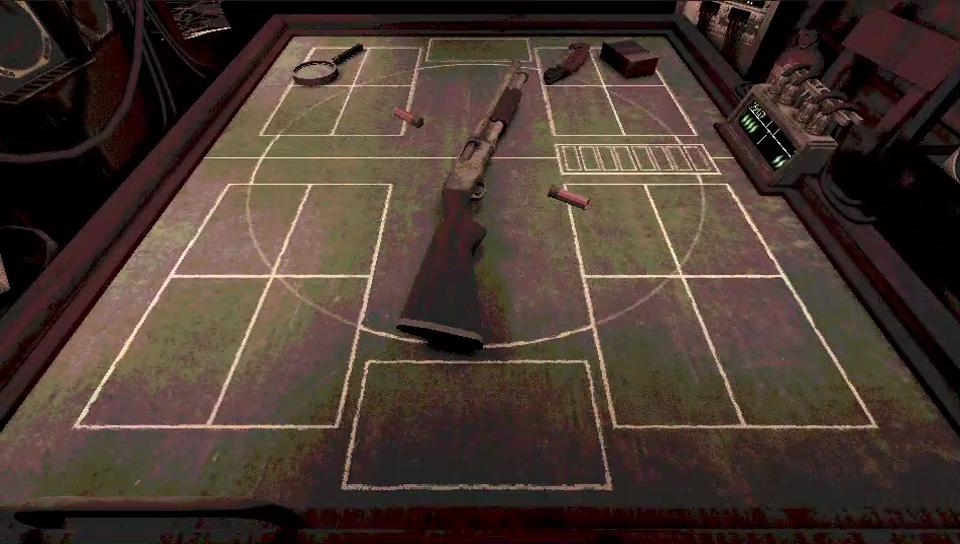ally: (0, 156, 959, 510)
cigar: (599, 40, 658, 78)
doubledamage: (541, 43, 589, 84)
emptyspace: (76, 275, 271, 426), (691, 275, 876, 427), (207, 274, 367, 429), (588, 277, 737, 431), (652, 183, 777, 281), (173, 185, 308, 273), (564, 184, 684, 279), (273, 184, 388, 274)
enemyspace: (212, 26, 740, 146)
gun: (396, 62, 528, 351)
lens: (293, 43, 363, 84)
